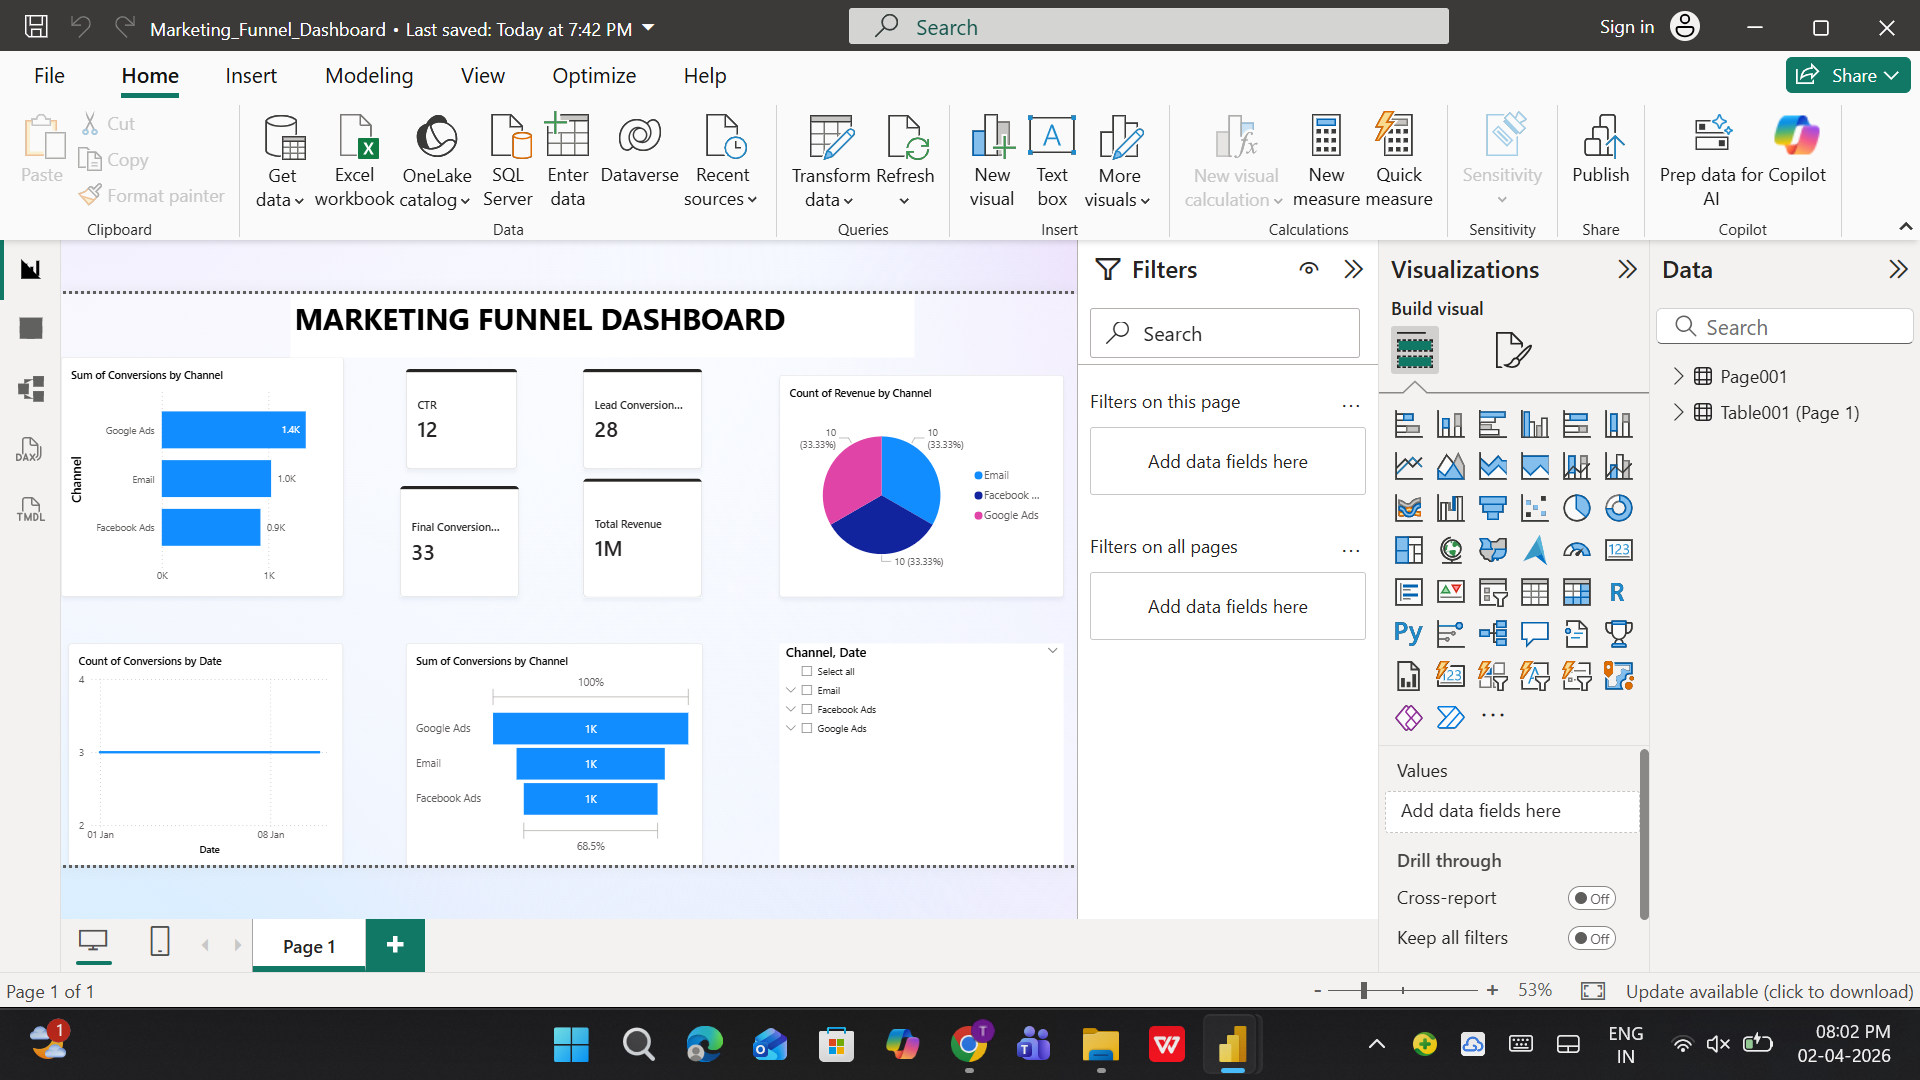

This screenshot's page, from the dashboard's own definition file:
{"tool":"powerbi","page":{"name":"Page 1","canvas":[1280,720],"ordinal":0},"visuals":[{"type":"funnel","fields":{"Category":["Page001.Channel"],"Y":["Sum(Page001.Conversions)"]},"box":[434,440,374,280],"z":0},{"type":"barChart","fields":{"Category":["Page001.Channel"],"Y":["Sum(Page001.Conversions)"]},"box":[0,80,356,302],"z":1000},{"type":"lineChart","fields":{"Category":["Page001.Date"],"Y":["CountNonNull(Page001.Conversions)"]},"box":[10,440,346,280],"z":2000},{"type":"pieChart","fields":{"Category":["Page001.Channel"],"Y":["CountNonNull(Page001.Revenue)"]},"box":[906,102,358,280],"z":3000},{"type":"slicer","fields":{"Values":["Page001.Channel","Page001.Date"]},"box":[906,440,358,280],"z":4000},{"type":"cardVisual","fields":{"Data":["Page001.CTR"]},"box":[434,94,140,126],"z":5000},{"type":"cardVisual","fields":{"Data":["Page001.Final Conversion Rate"]},"box":[428,242,150,140],"z":6000},{"type":"cardVisual","fields":{"Data":["Page001.Lead Conversion Rate"]},"box":[658,94,150,126],"z":7000},{"type":"cardVisual","fields":{"Data":["Page001.Total Revenue"]},"box":[658,232,150,150],"z":8000},{"type":"textbox","box":[290,0,786,80],"z":9000}]}

Visuals, with their boxes on the page's 1280x720 design canvas (x1, y1, x2, y2). These are canvas units, not pixel positions in the 1920x1080 screenshot, which may show the page scaled, cropped or inside an application window:
funnel - Page001.Channel x Sum(Page001.Conversions): l=434, t=440, r=808, b=720
barChart - Page001.Channel x Sum(Page001.Conversions): l=0, t=80, r=356, b=382
lineChart - Page001.Date x CountNonNull(Page001.Conversions): l=10, t=440, r=356, b=720
pieChart - Page001.Channel x CountNonNull(Page001.Revenue): l=906, t=102, r=1264, b=382
slicer - Page001.Channel x Page001.Date: l=906, t=440, r=1264, b=720
cardVisual - Page001.CTR: l=434, t=94, r=574, b=220
cardVisual - Page001.Final Conversion Rate: l=428, t=242, r=578, b=382
cardVisual - Page001.Lead Conversion Rate: l=658, t=94, r=808, b=220
cardVisual - Page001.Total Revenue: l=658, t=232, r=808, b=382
textbox: l=290, t=0, r=1076, b=80
